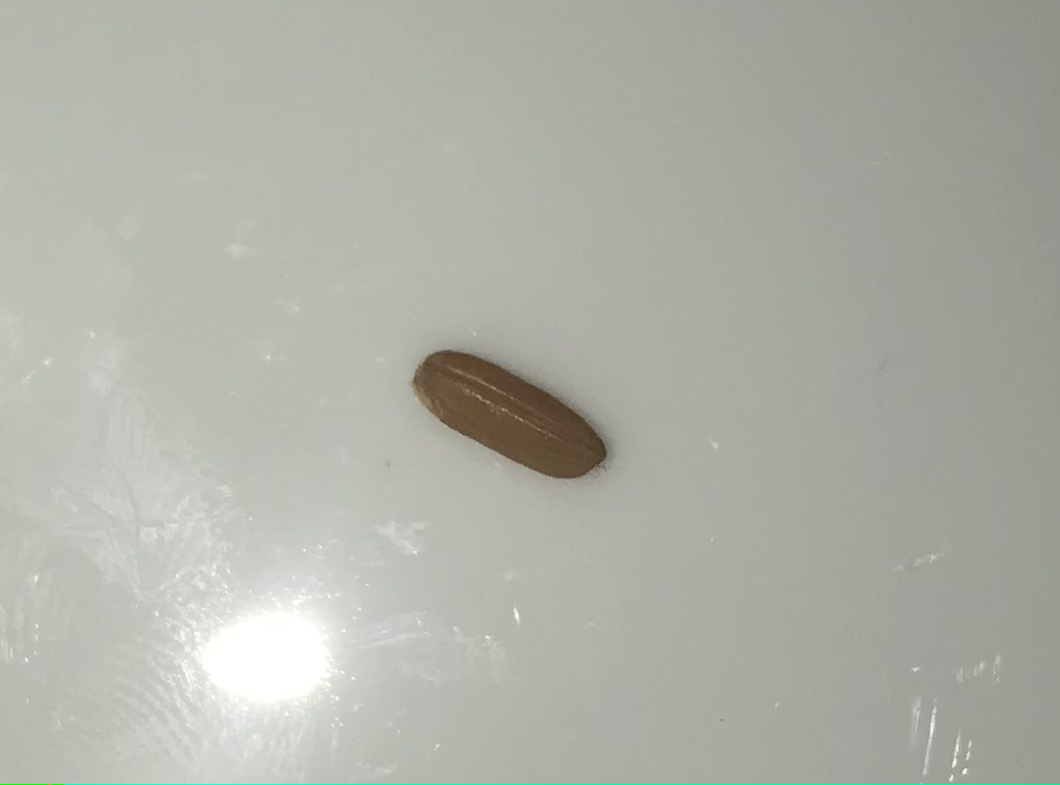Gao Lut Dien Bien: (406, 344, 609, 485)
